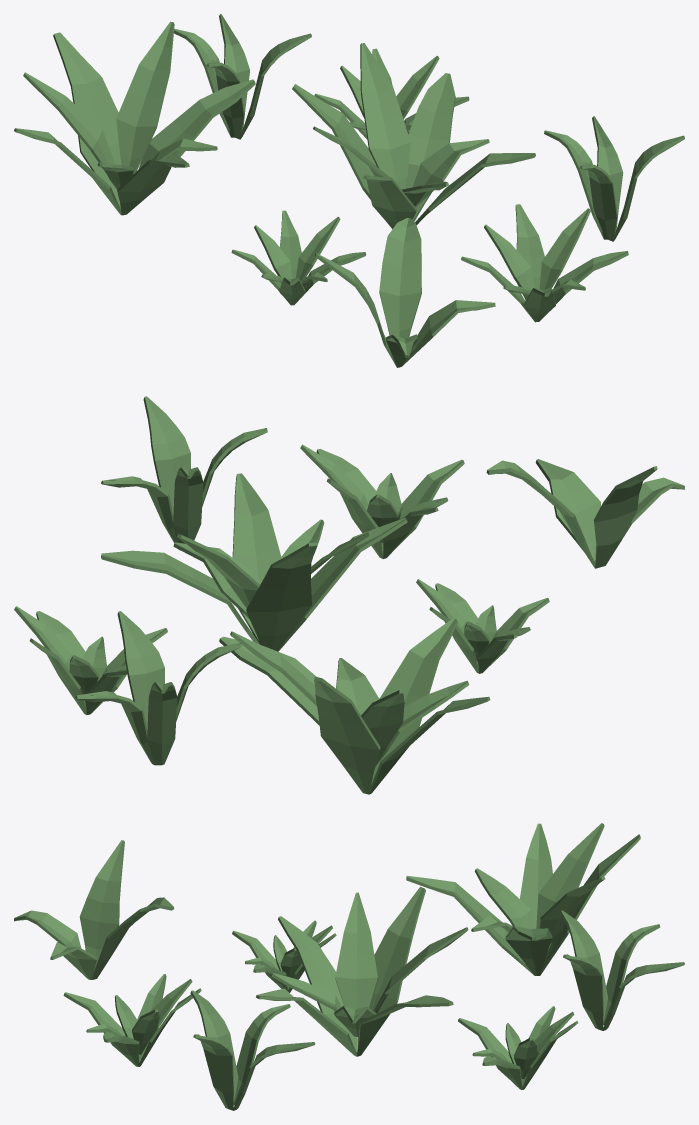
The model's file is 3DObj_GrassGroup_V1.fbx.
3 renders of one model, top to bottom at view 1: azimuth 30°, elevation 25°; view 2: azimuth 150°, elevation 25°; view 3: azimuth 270°, elevation 25°, orthographic. The views are drawn at different scales.
Parts seen in each view (by area): view 1: 3DObj_GrassGroup_V1; view 2: 3DObj_GrassGroup_V1; view 3: 3DObj_GrassGroup_V1.
Part boxes in pixels (x1,y1,x2,y2): 3DObj_GrassGroup_V1: (14,14,684,367); 3DObj_GrassGroup_V1: (14,396,684,794); 3DObj_GrassGroup_V1: (14,823,684,1110).
Bounding box in the file's own units: 136 × 40.19 × 174.
